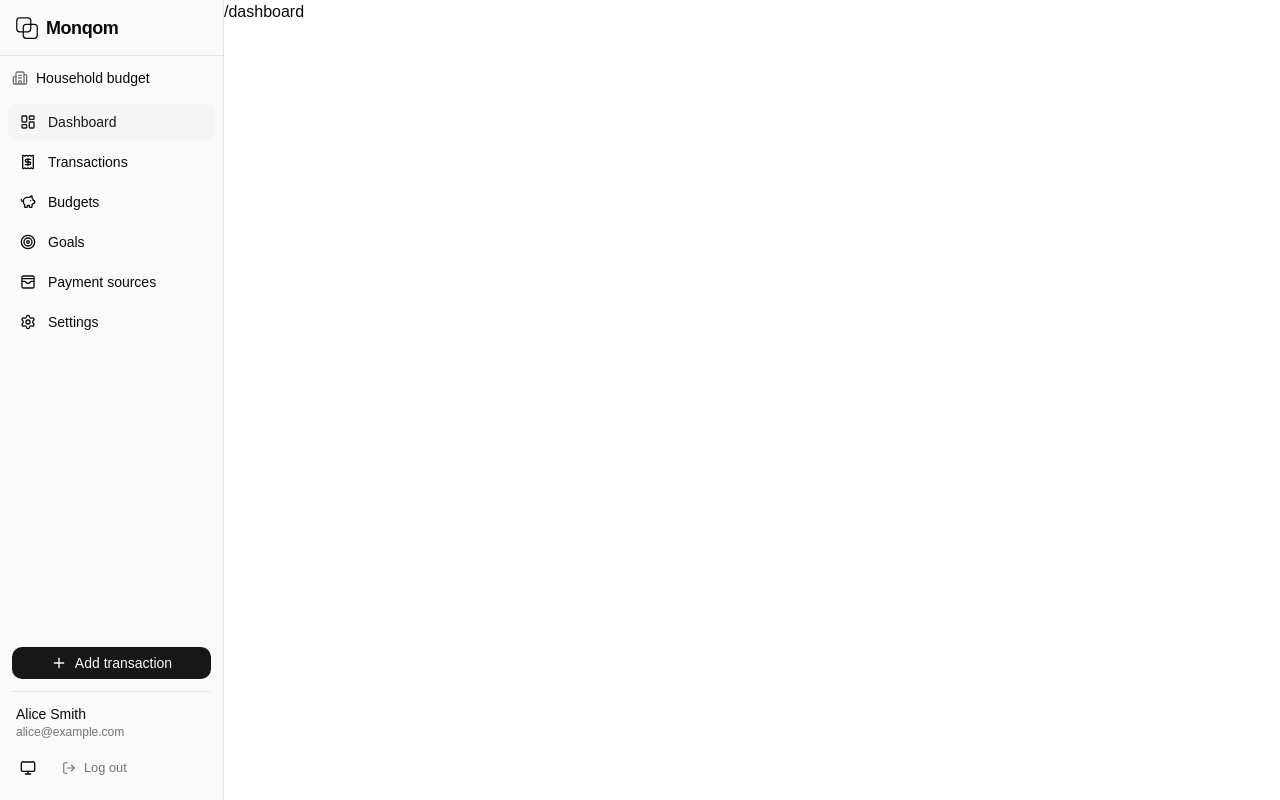
Test case: AppLayout › Add Transaction button opens transaction modal
Click the button "Add transaction": (112, 663) [12,647,211,679]
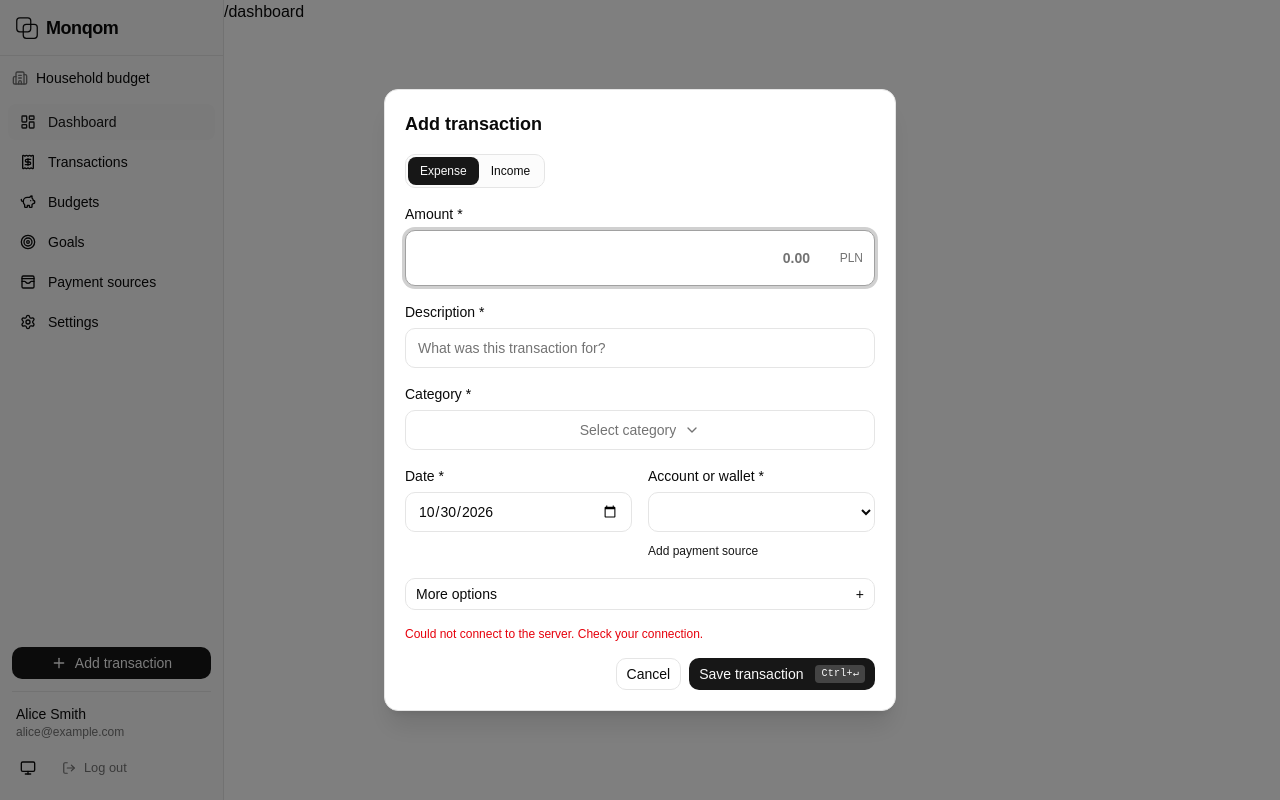
Expected: the dialog "Add transaction" is shown, [384,89,896,711]
